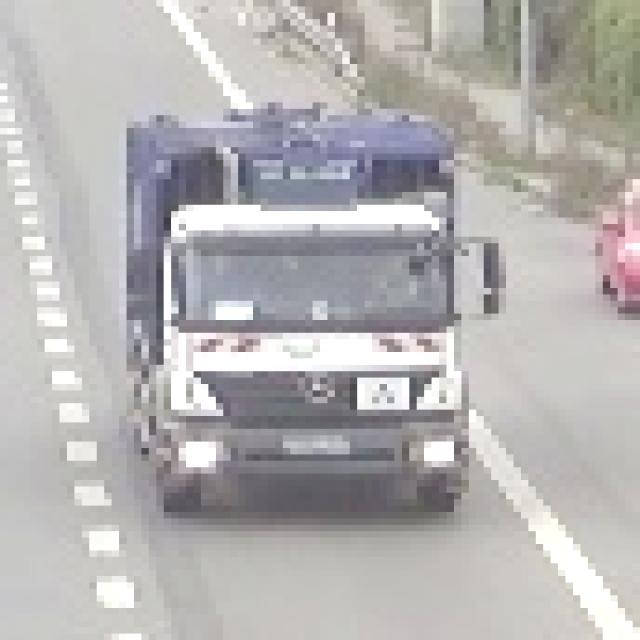truck: (113, 104, 507, 501)
